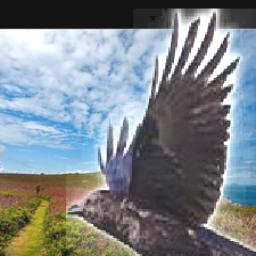Crow: (66, 9, 256, 256)
